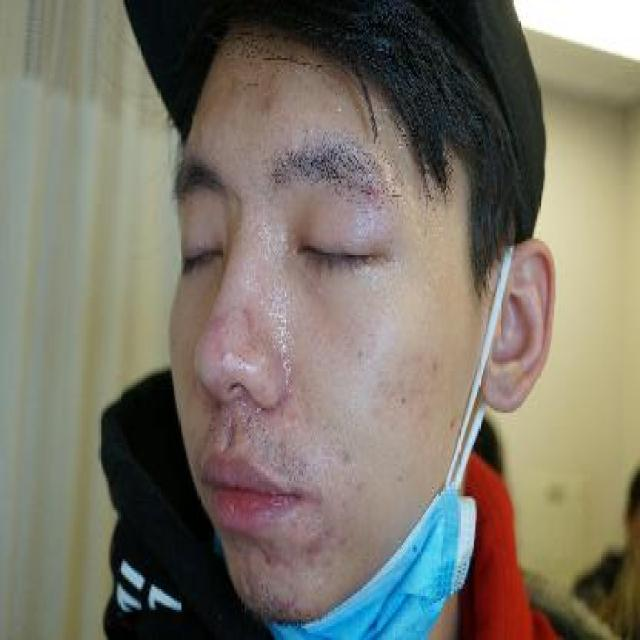nodules: (240, 542, 271, 600)
papules: (363, 188, 379, 209)
